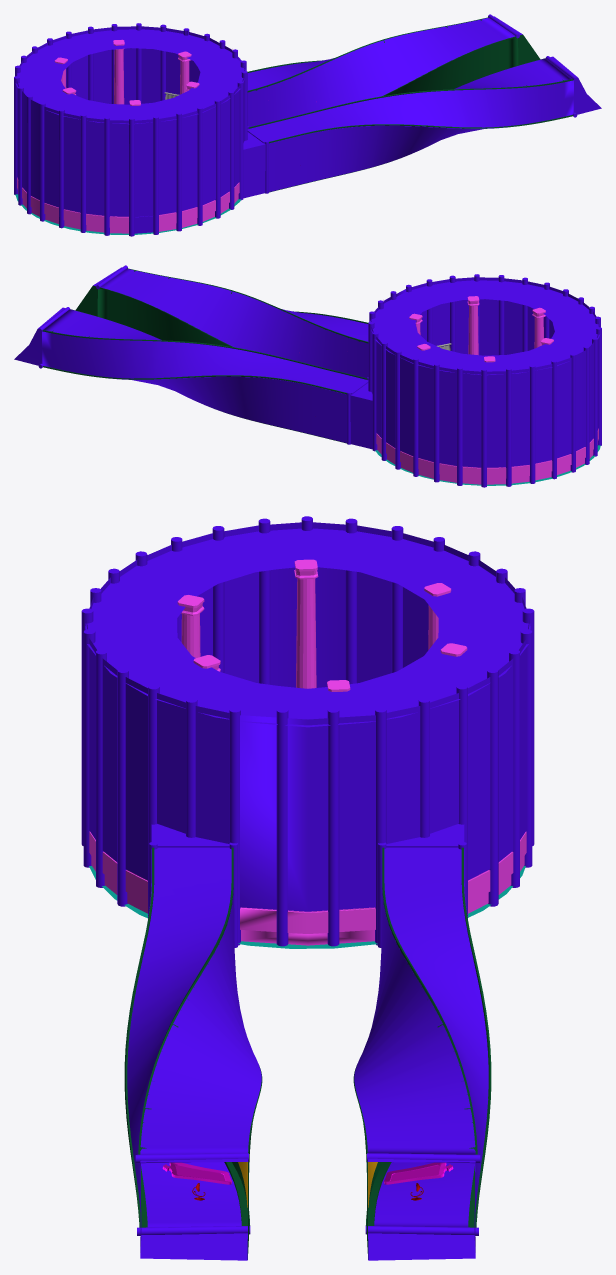
Rendered from SM_Architecture (1).fbx.
3 views of the same model, one above another, from view 1: azimuth 30°, elevation 25°; view 2: azimuth 150°, elevation 25°; view 3: azimuth 270°, elevation 25° (orthographic). The views are drawn at different scales.
Parts seen in each view (by area): view 1: polySurface1726; view 2: polySurface1726; view 3: polySurface1726.
Boxes of the visible parts, <box> form: polySurface1726: <box>14,14,601,236</box>; polySurface1726: <box>14,265,601,487</box>; polySurface1726: <box>81,516,534,1260</box>.
Size of the model in its own units: 4546 by 1016 by 1669.
